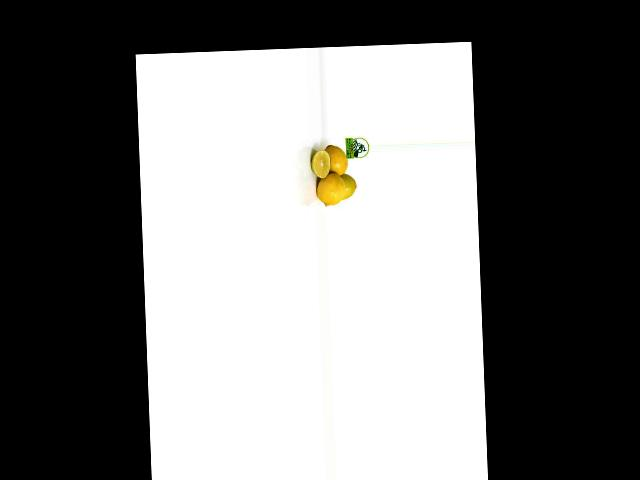lemon: (314, 173, 345, 209)
